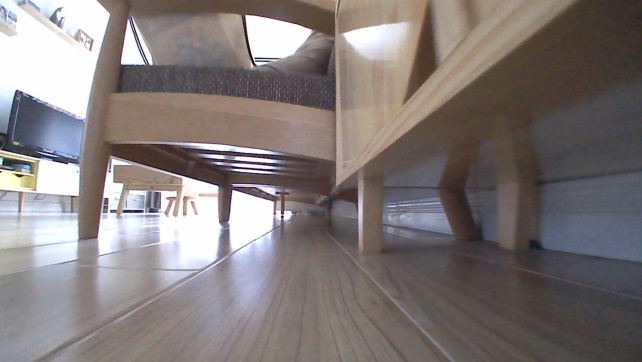sofa1: (66, 0, 345, 239)
